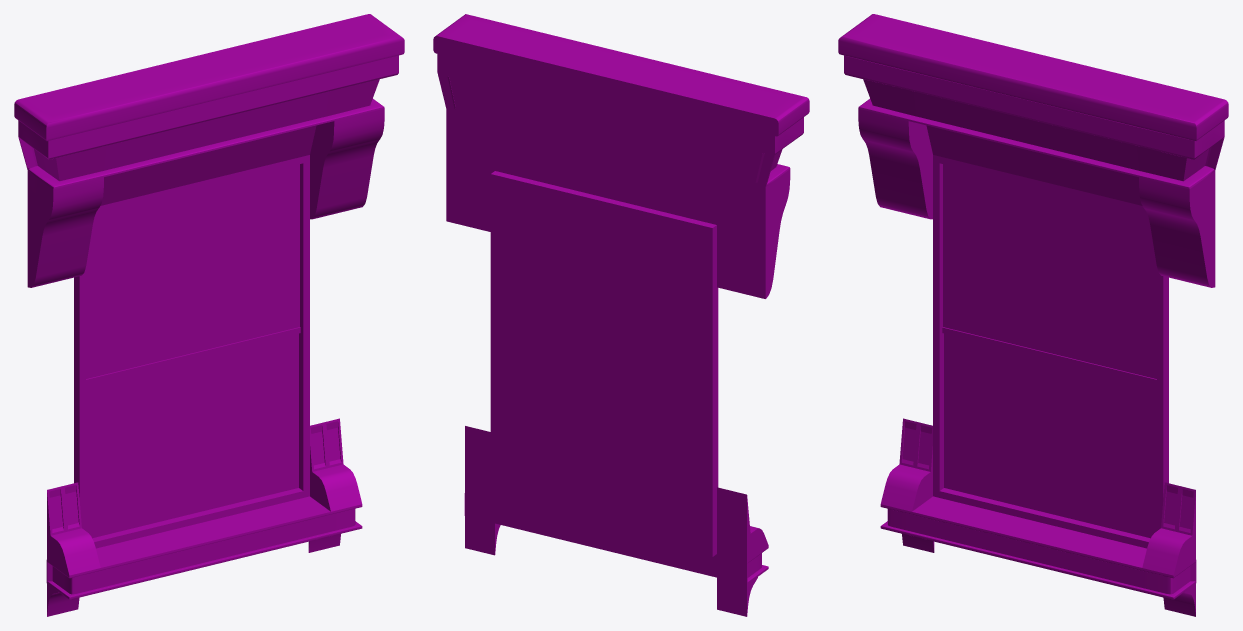
Rendered from Generic_Window.fbx.
3 views of the same model, side by side, from view 1: azimuth 30°, elevation 25°; view 2: azimuth 150°, elevation 25°; view 3: azimuth 330°, elevation 25° (orthographic). The views are drawn at different scales.
Parts seen in each view (by area): view 1: window11; view 2: window11; view 3: window11.
Boxes of the visible parts, left/top/right/bottom form: window11: left=14, top=14, right=404, bottom=616; window11: left=433, top=14, right=809, bottom=616; window11: left=838, top=14, right=1228, bottom=616.
Bounding box in the file's own units: 5.39 × 7.55 × 0.9537.
